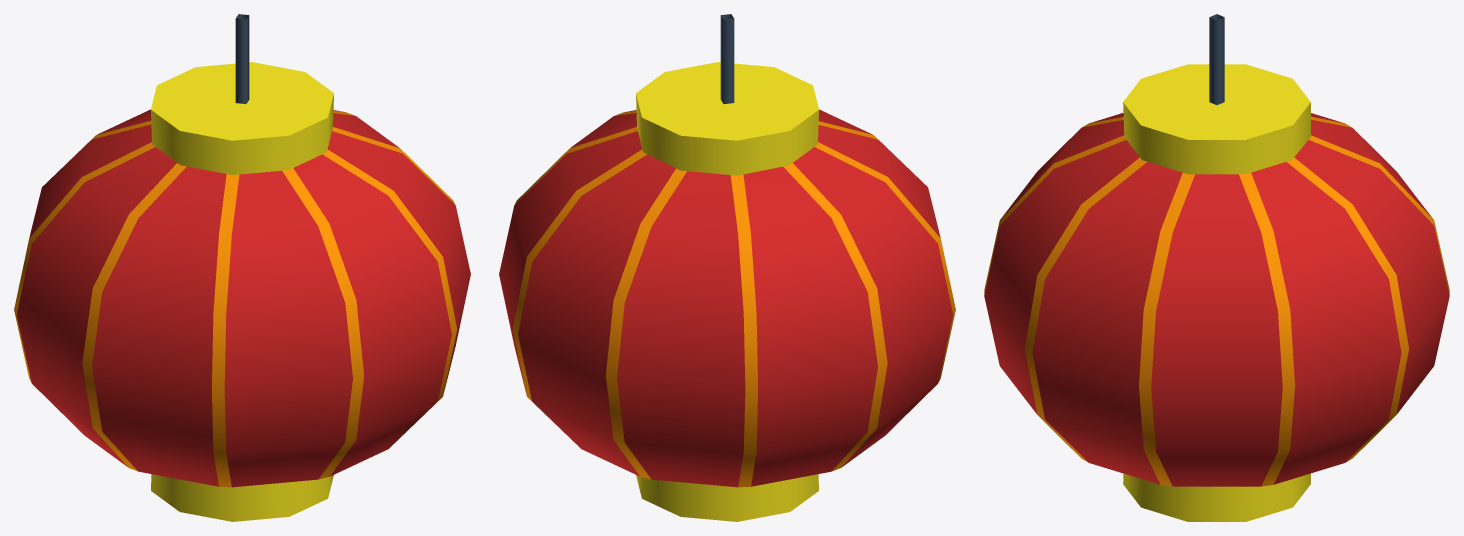
File: LanternA2_geo.fbx
The picture shows the model from 3 angles, left to right: view 1: azimuth 30°, elevation 25°; view 2: azimuth 150°, elevation 25°; view 3: azimuth 270°, elevation 25°; orthographic projection.
Visible parts, largest first — view 1: LanternA2_geo; view 2: LanternA2_geo; view 3: LanternA2_geo.
Boxes of the visible parts, x1=… form: LanternA2_geo: x1=14, y1=14, x2=470, y2=521; LanternA2_geo: x1=499, y1=14, x2=955, y2=521; LanternA2_geo: x1=984, y1=14, x2=1449, y2=521.
Bounding box in the file's own units: 0.5004 × 0.5214 × 0.5771.
